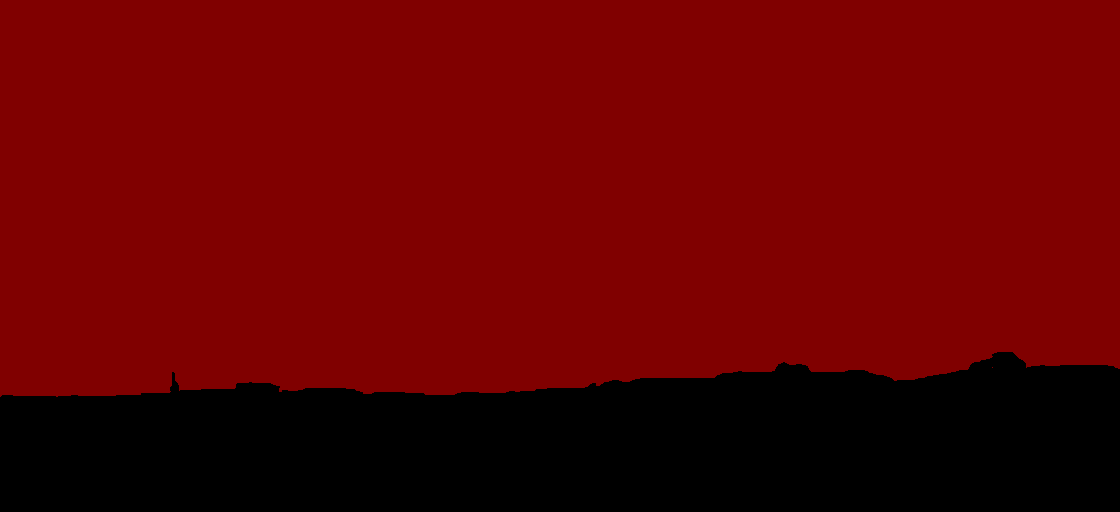Sky: (1, 1, 1119, 396)
